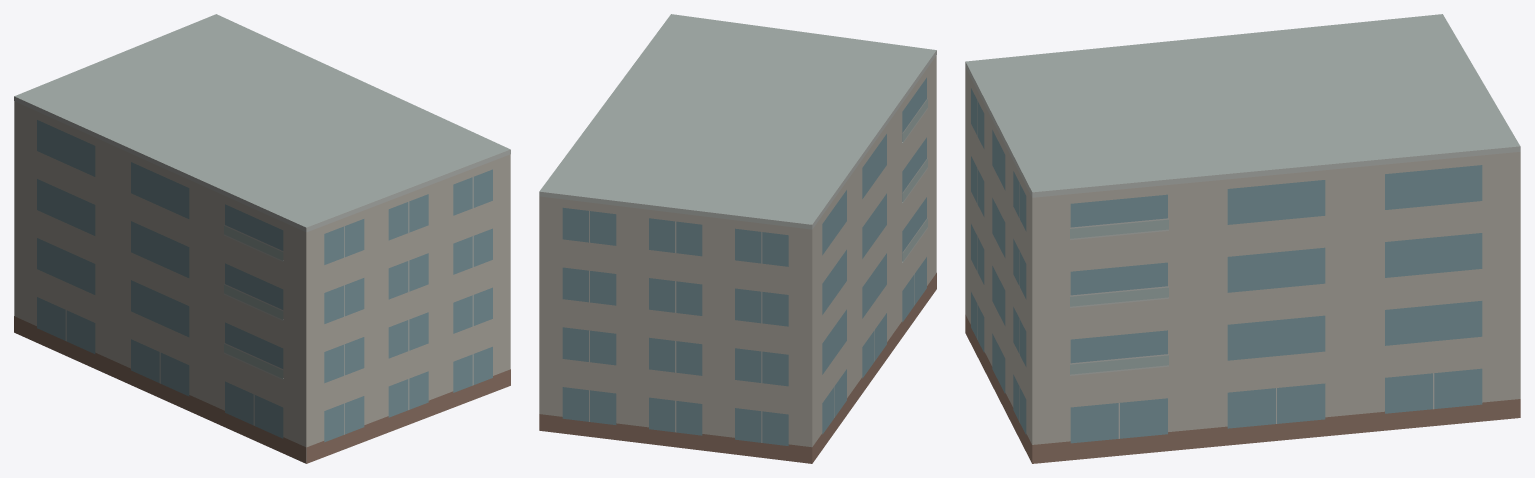
Rendered from survey-upis-32720240.glb.
3 views of the same model, side by side, from view 1: azimuth 30°, elevation 25°; view 2: azimuth 150°, elevation 25°; view 3: azimuth 270°, elevation 25° (orthographic). The views are drawn at different scales.
Parts seen in each view (by area): view 1: survey-upis-32720240.tmp; view 2: survey-upis-32720240.tmp; view 3: survey-upis-32720240.tmp.
Boxes of the visible parts, x1=… form: survey-upis-32720240.tmp: x1=14, y1=14, x2=510, y2=463; survey-upis-32720240.tmp: x1=539, y1=14, x2=936, y2=463; survey-upis-32720240.tmp: x1=965, y1=14, x2=1520, y2=463.
Size of the model in its own units: 17.2 by 12.2 by 22.62.
